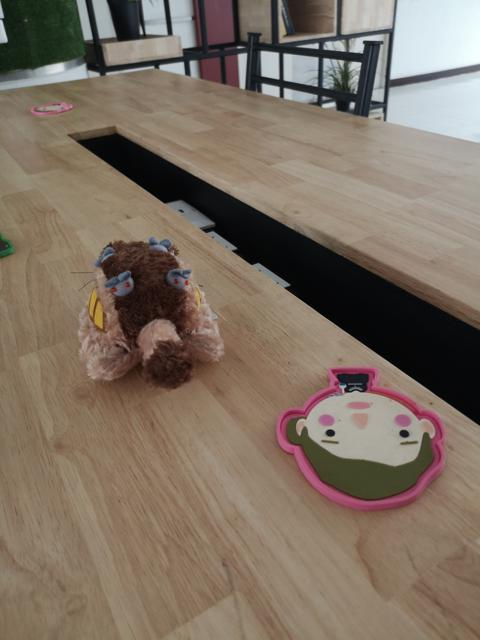nekobus: (69, 233, 228, 390)
